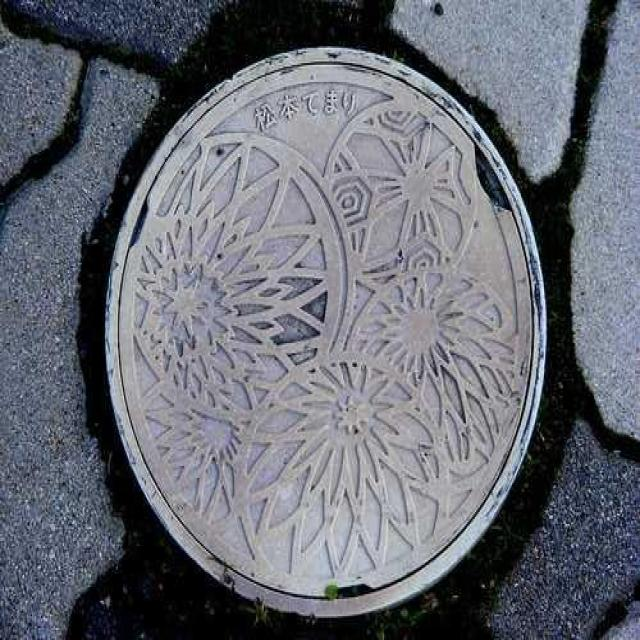manhole: (99, 46, 550, 623)
